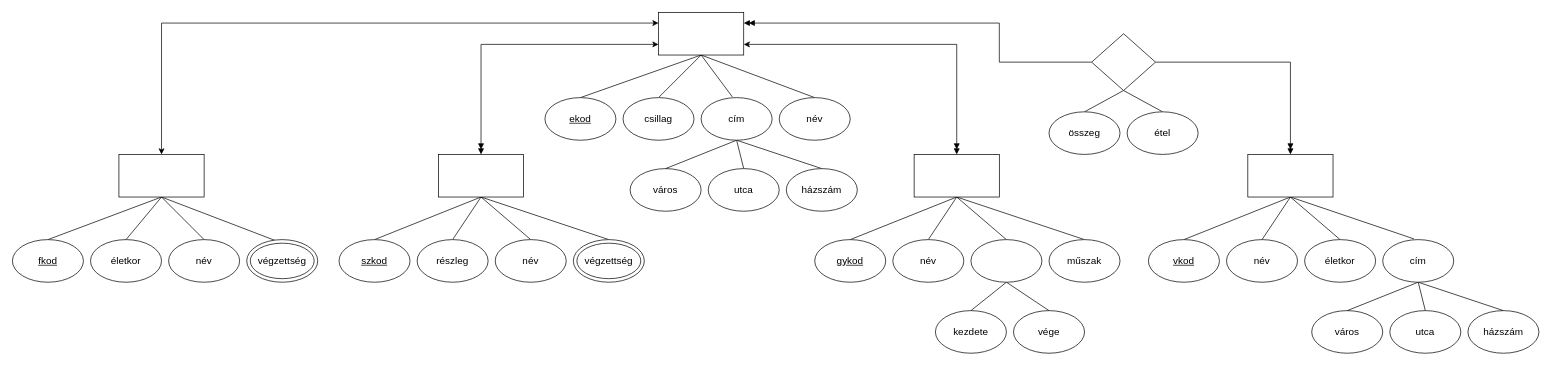
The diagram is 1551 pixels wide and 366 high, and some of its shapes have lost their labels. Here are the shapes that lost their labels. From the top down, the centre of each, then its label:
[701,33]: Étterem
[1123,62]: Rendelés
[161,175]: Főszakács
[481,175]: Szakács
[956,175]: Gyakornok
[1290,175]: Vendég
[1006,260]: gyakorlat
